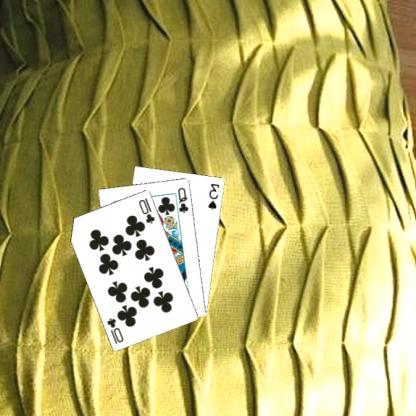10C: (106, 315, 127, 345), (138, 195, 158, 225)
3S: (207, 181, 223, 210)
QC: (177, 185, 192, 214)
